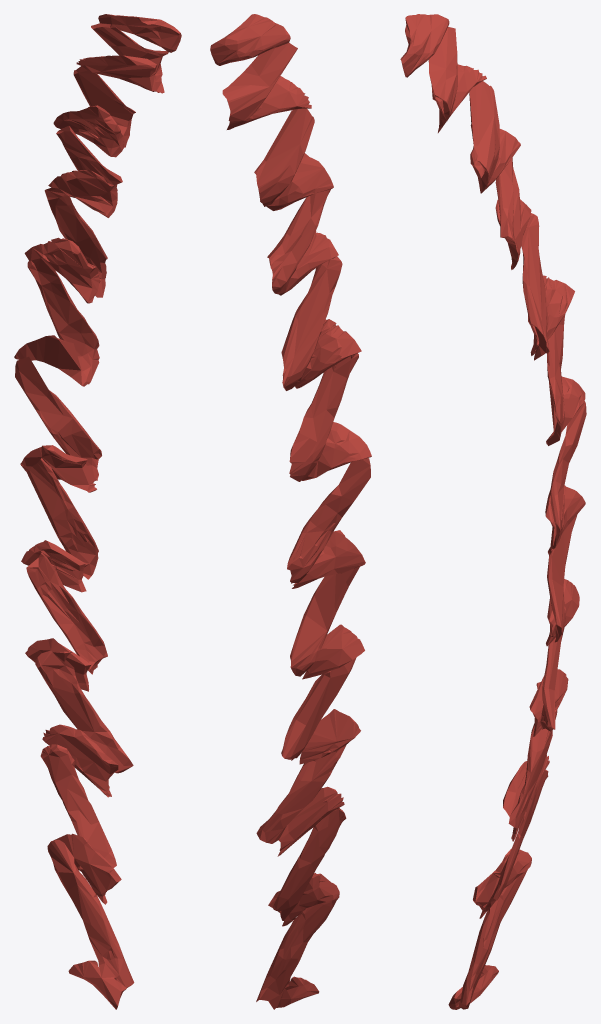
File: musculos-multifidus-thoracis-muscle-l.glb
3 views of the same model, side by side, from view 1: azimuth 30°, elevation 25°; view 2: azimuth 210°, elevation 25°; view 3: azimuth 270°, elevation 25° (orthographic). The views are drawn at different scales.
Visible parts, largest first — view 1: Multifidus thoracis muscle.l; view 2: Multifidus thoracis muscle.l; view 3: Multifidus thoracis muscle.l.
Part boxes in pixels (x1,y1,x2,y2): Multifidus thoracis muscle.l: (14,14,181,1009); Multifidus thoracis muscle.l: (210,14,371,1009); Multifidus thoracis muscle.l: (400,14,586,1009).
Bounding box in the file's own units: 0.0262 × 0.3079 × 0.0524.
